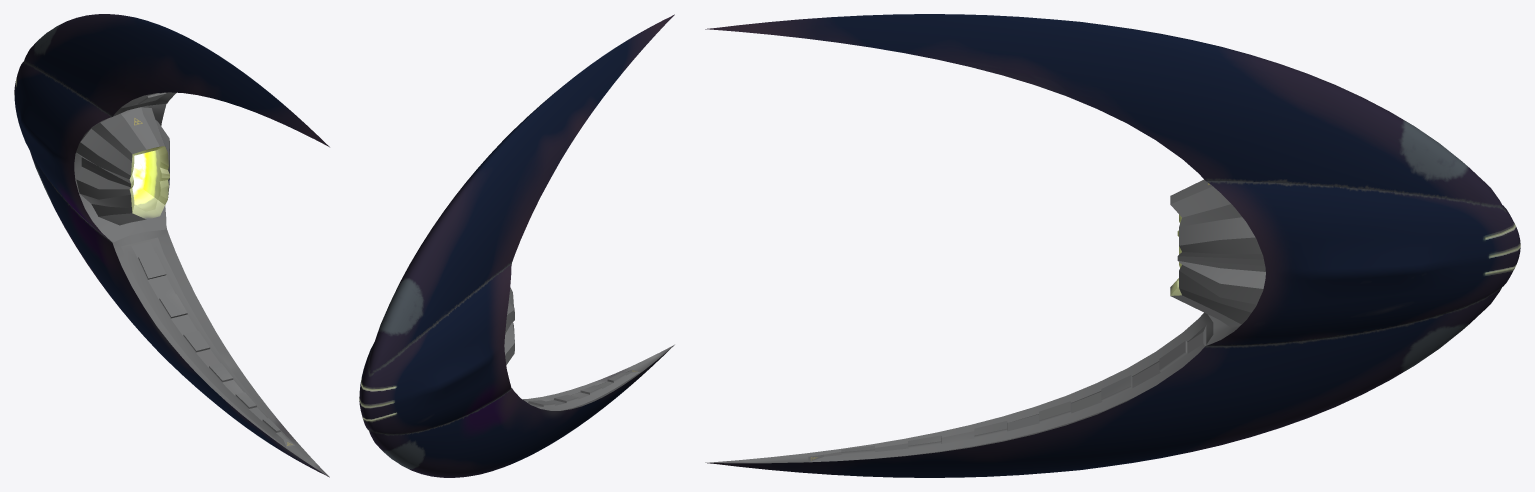
File: stealth_ship_-_vehicle_design.glb
3 renders of one model, left to right at view 1: azimuth 30°, elevation 25°; view 2: azimuth 150°, elevation 25°; view 3: azimuth 270°, elevation 25°, orthographic. The views are drawn at different scales.
Parts seen in each view (by area): view 1: Object_2; view 2: Object_2; view 3: Object_2.
Boxes of the visible parts, x1,y1,x2,y2 form: Object_2: (14, 14, 329, 477); Object_2: (359, 14, 674, 477); Object_2: (705, 14, 1520, 477).
Bounding box in the file's own units: 7.31 × 27.02 × 43.08.
Materials: 1 (1 with a texture image).
